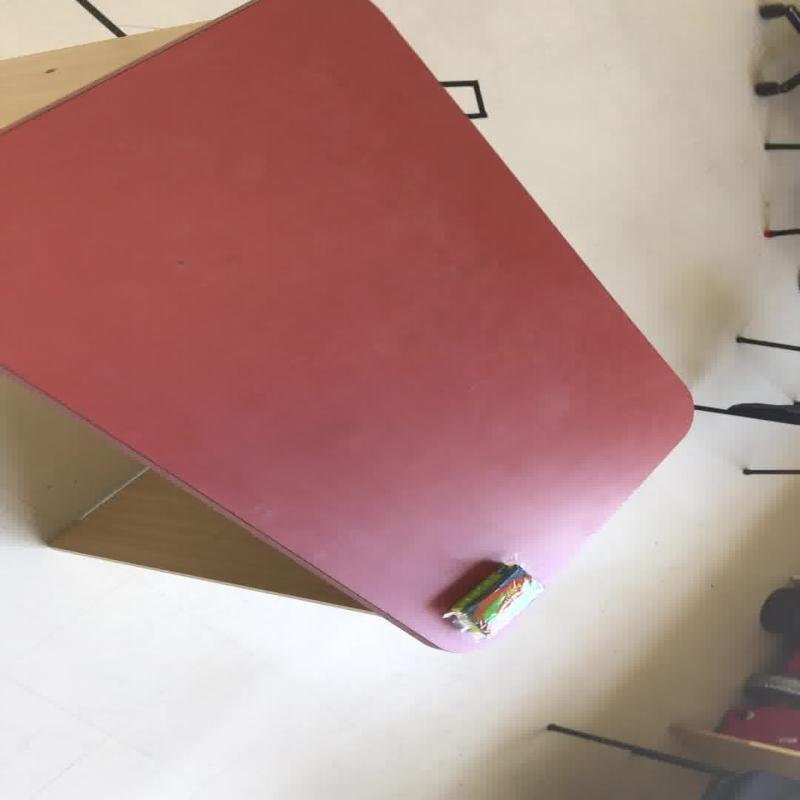sponge: (1, 0, 695, 652), (438, 560, 544, 640)
